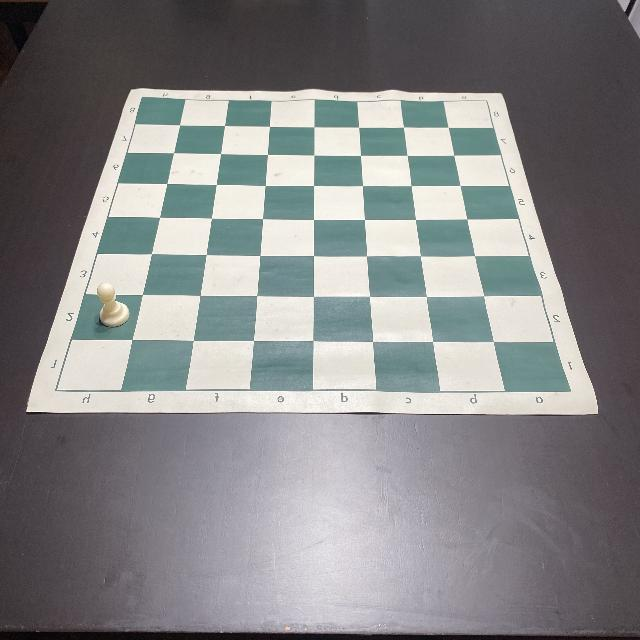board: (28, 88, 596, 414)
white-pawn: (96, 282, 130, 328)
